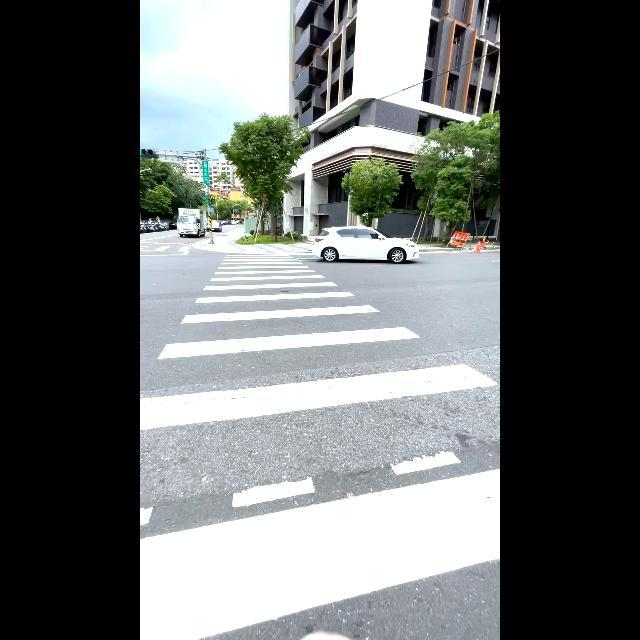sidewalk: (140, 248, 500, 637)
